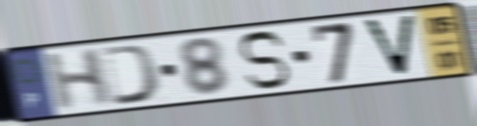7: (309, 20, 356, 86)
8: (177, 35, 233, 99)
D: (99, 42, 164, 108)
H: (43, 45, 114, 113)
S: (235, 29, 292, 92)
V: (359, 13, 418, 79)
